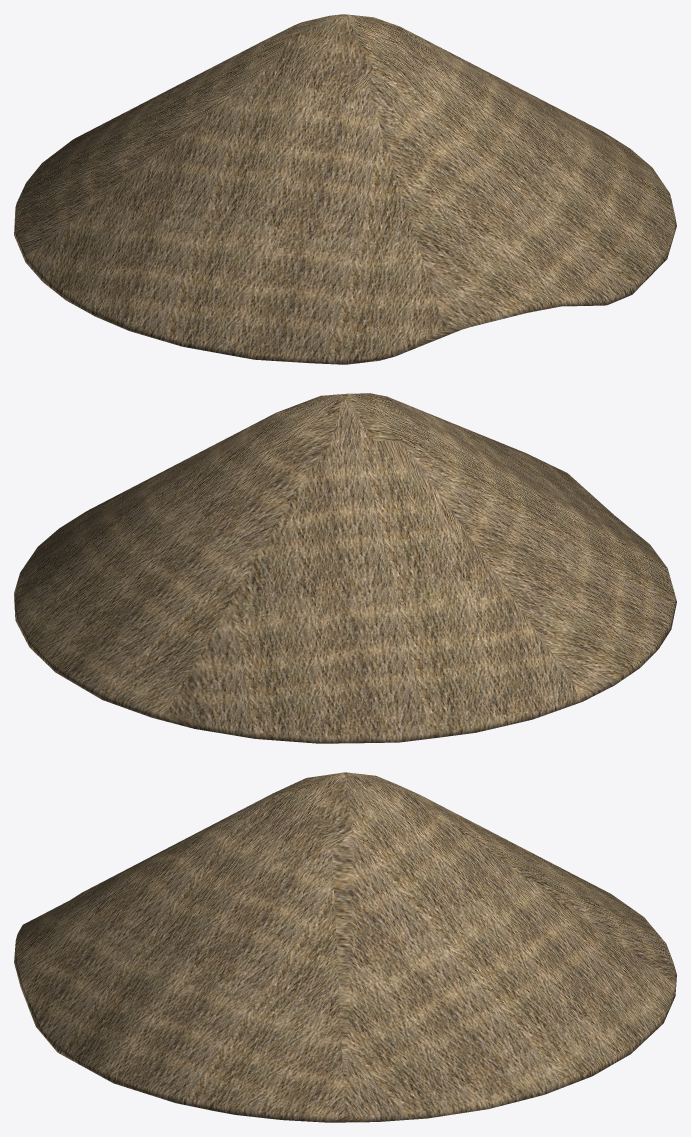
File: roof.glb
The picture shows the model from 3 angles, top to bottom: view 1: azimuth 30°, elevation 25°; view 2: azimuth 150°, elevation 25°; view 3: azimuth 270°, elevation 25°; orthographic projection.
Visible parts, largest first — view 1: roof; view 2: roof; view 3: roof.
Part boxes in pixels (x1=…): roof: x1=14, y1=14, x2=676, y2=364; roof: x1=14, y1=393, x2=676, y2=743; roof: x1=14, y1=772, x2=676, y2=1122.
Size of the model in its own units: 10.01 by 3.52 by 10.
Materials: 1 (1 with a texture image).
